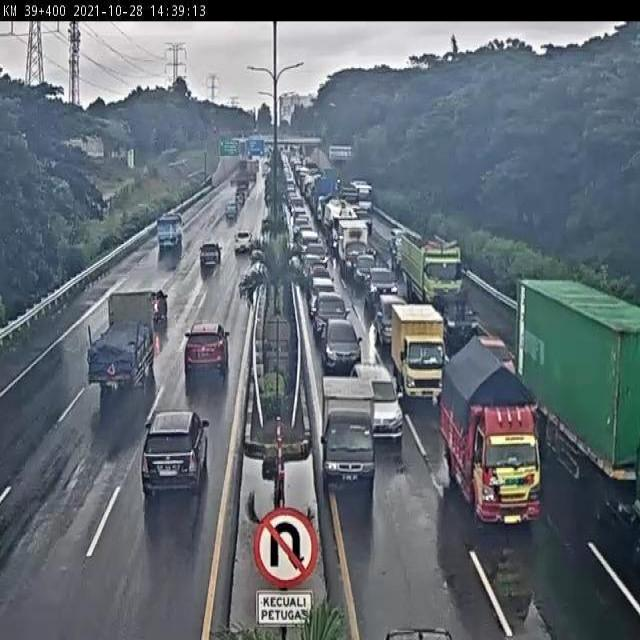big truck: (513, 268, 640, 547), (400, 228, 466, 308)
car: (142, 408, 216, 507), (350, 351, 409, 444), (361, 604, 478, 640), (181, 315, 239, 384), (317, 317, 364, 379), (438, 287, 481, 353), (308, 291, 350, 344), (477, 327, 515, 380), (375, 295, 412, 344), (367, 265, 402, 312), (191, 238, 228, 278), (228, 225, 261, 256)
mid truck: (435, 332, 542, 523), (84, 283, 163, 401), (388, 300, 445, 407), (152, 214, 185, 258)
small truck: (311, 364, 385, 501)
